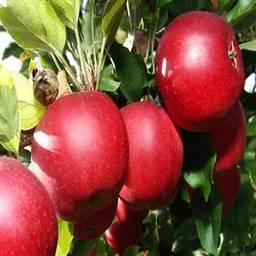apple: (28, 91, 128, 239), (156, 10, 244, 132), (118, 102, 184, 211), (1, 156, 58, 255)
